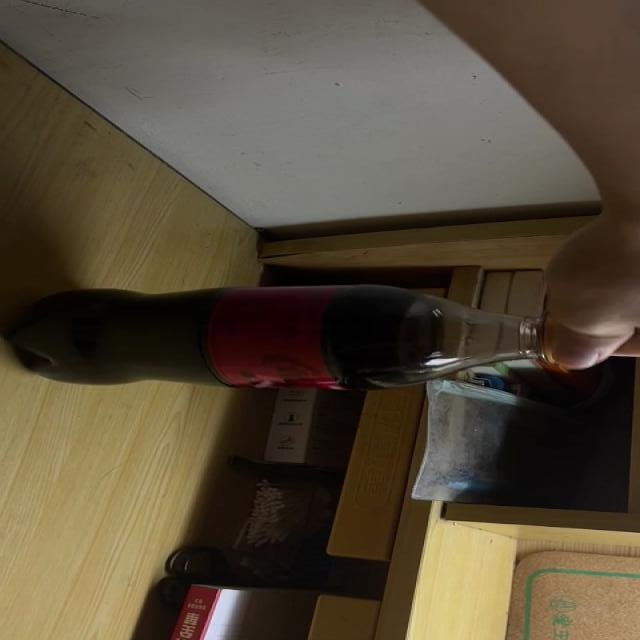Coca-Cola: (0, 286, 602, 387)
